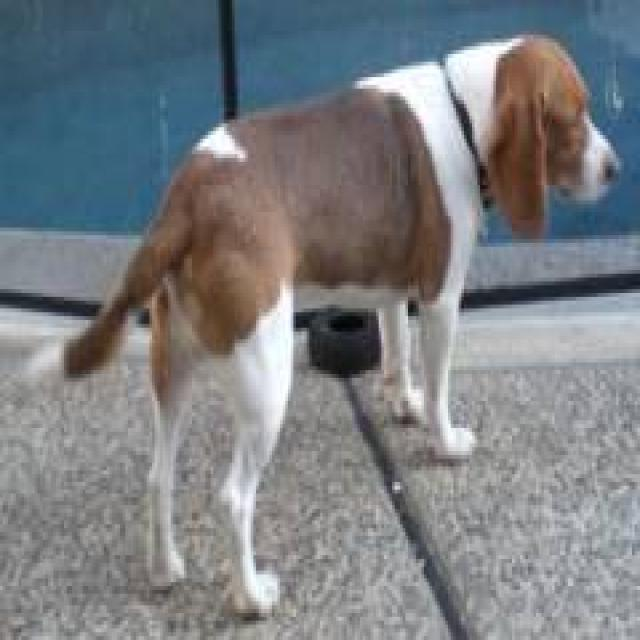Dog: (471, 7, 624, 267)
